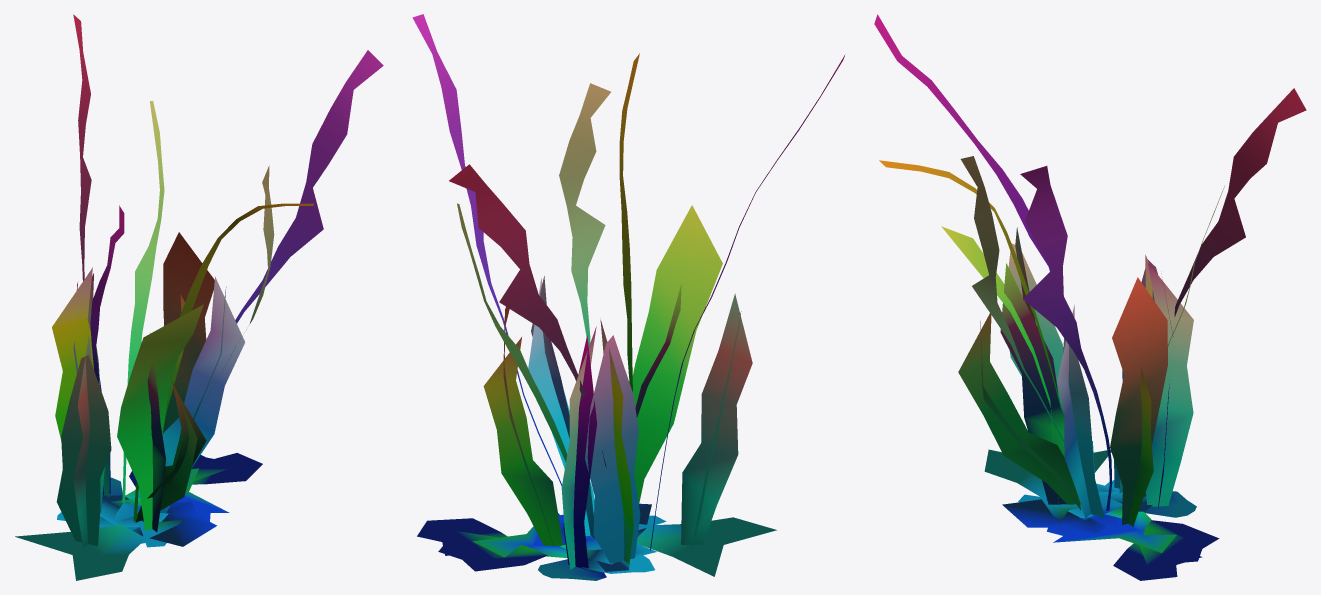
File: uddmcgbia_VarI_LOD0.fbx
3 views of the same model, side by side, from view 1: azimuth 30°, elevation 25°; view 2: azimuth 150°, elevation 25°; view 3: azimuth 270°, elevation 25° (orthographic). The views are drawn at different scales.
Parts seen in each view (by area): view 1: _8d2f_VarI_LOD0; view 2: _8d2f_VarI_LOD0; view 3: _8d2f_VarI_LOD0.
Boxes of the visible parts, <box> form: _8d2f_VarI_LOD0: <box>15,14,383,580</box>; _8d2f_VarI_LOD0: <box>412,14,845,580</box>; _8d2f_VarI_LOD0: <box>874,14,1306,580</box>.
Size of the model in its own units: 24.43 by 30.94 by 26.65.
